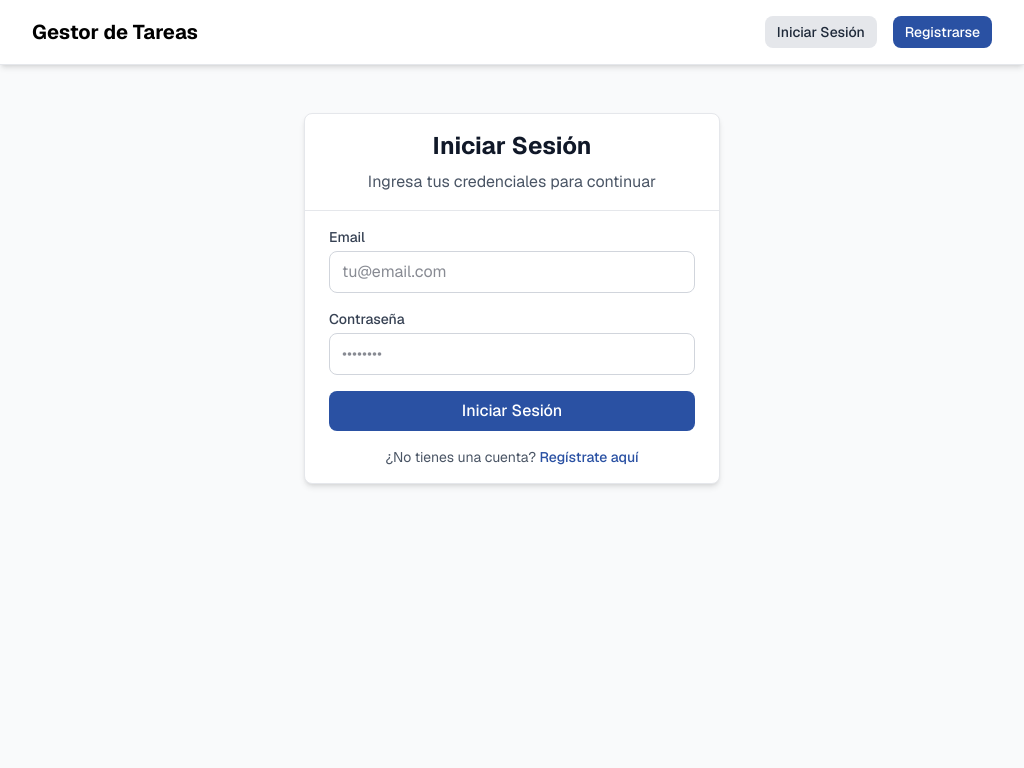
Test: LoginPage › valida campos vacíos
Click the button "Iniciar Sesión" below "Contraseña": (512, 411) 329,391 -> 695,431
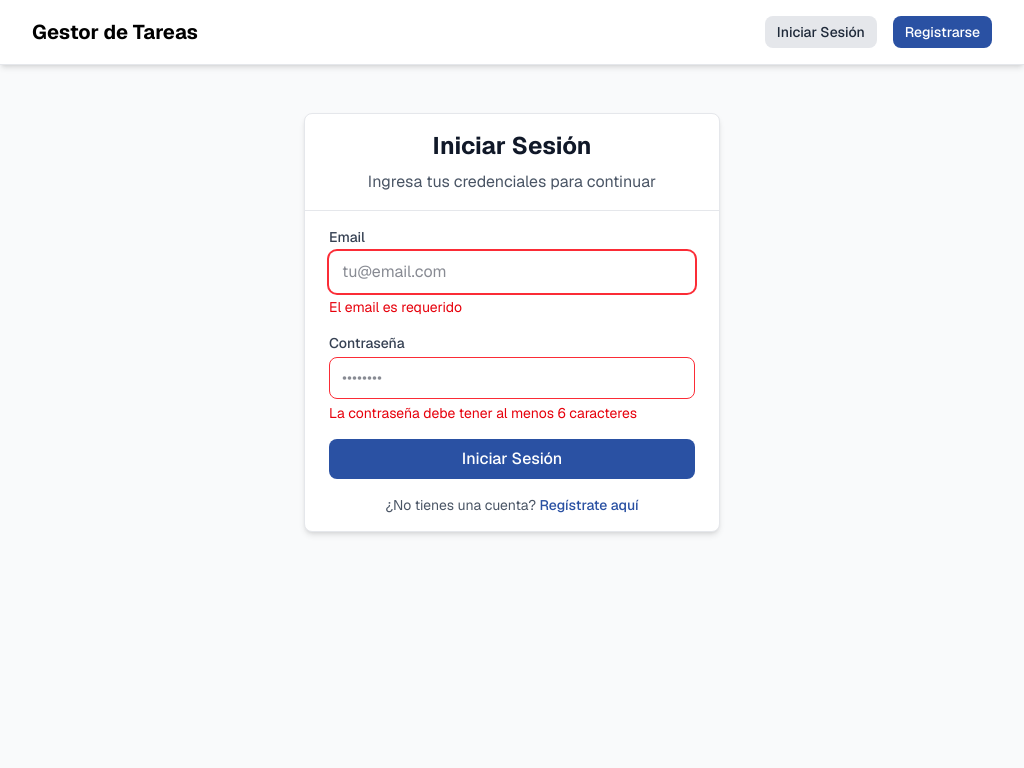
Expected: the text "El email es requerido" is shown, 329,298 -> 462,316
